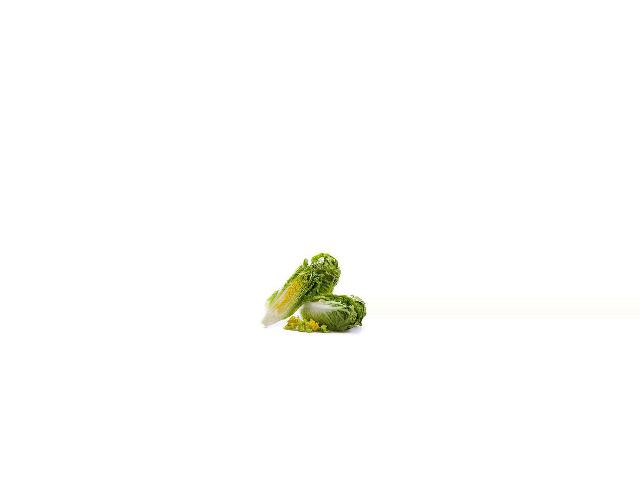lettuce: (292, 291, 364, 335)
